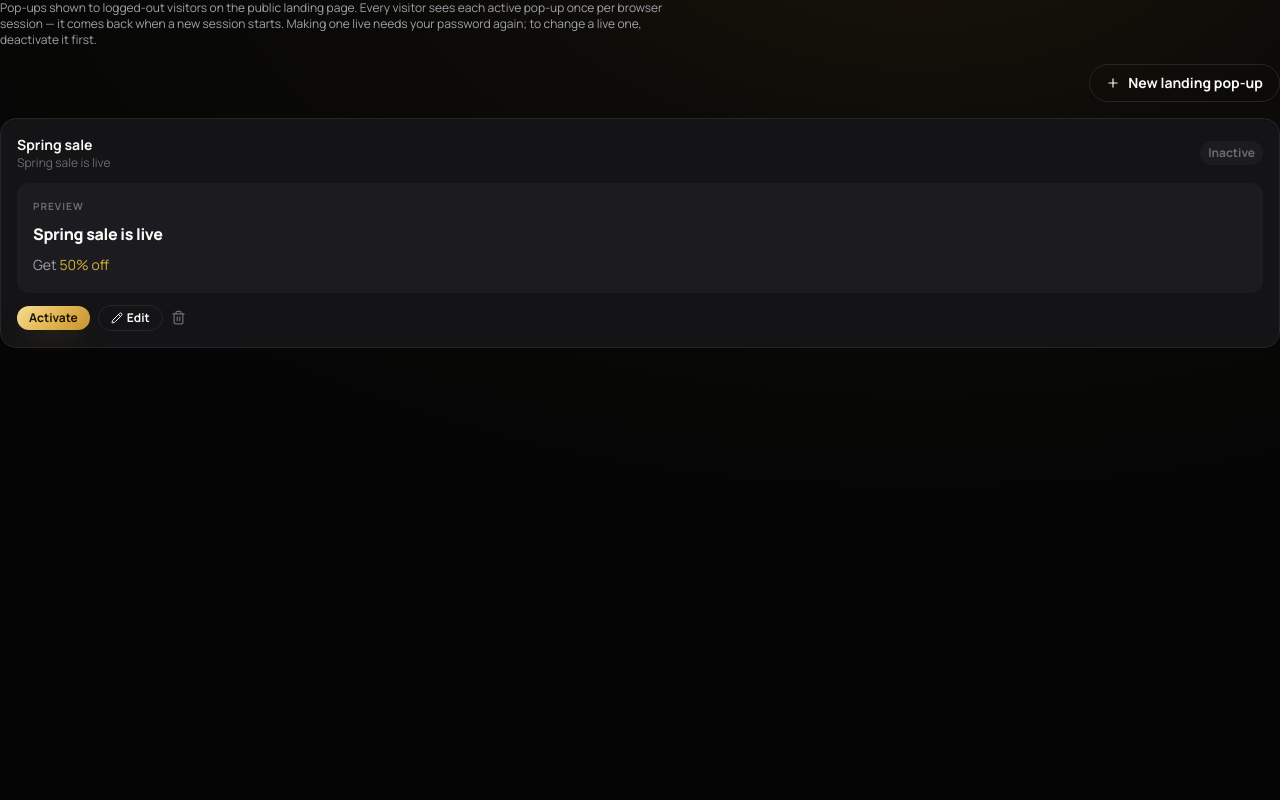
Test: LandingPopups (admin tab) › prompts for step-up when activating requires it
Step 1. Click the button with test id "admin-landing-popup-activate-btn-p1" → (53, 318), box left=17, top=306, right=90, bottom=330
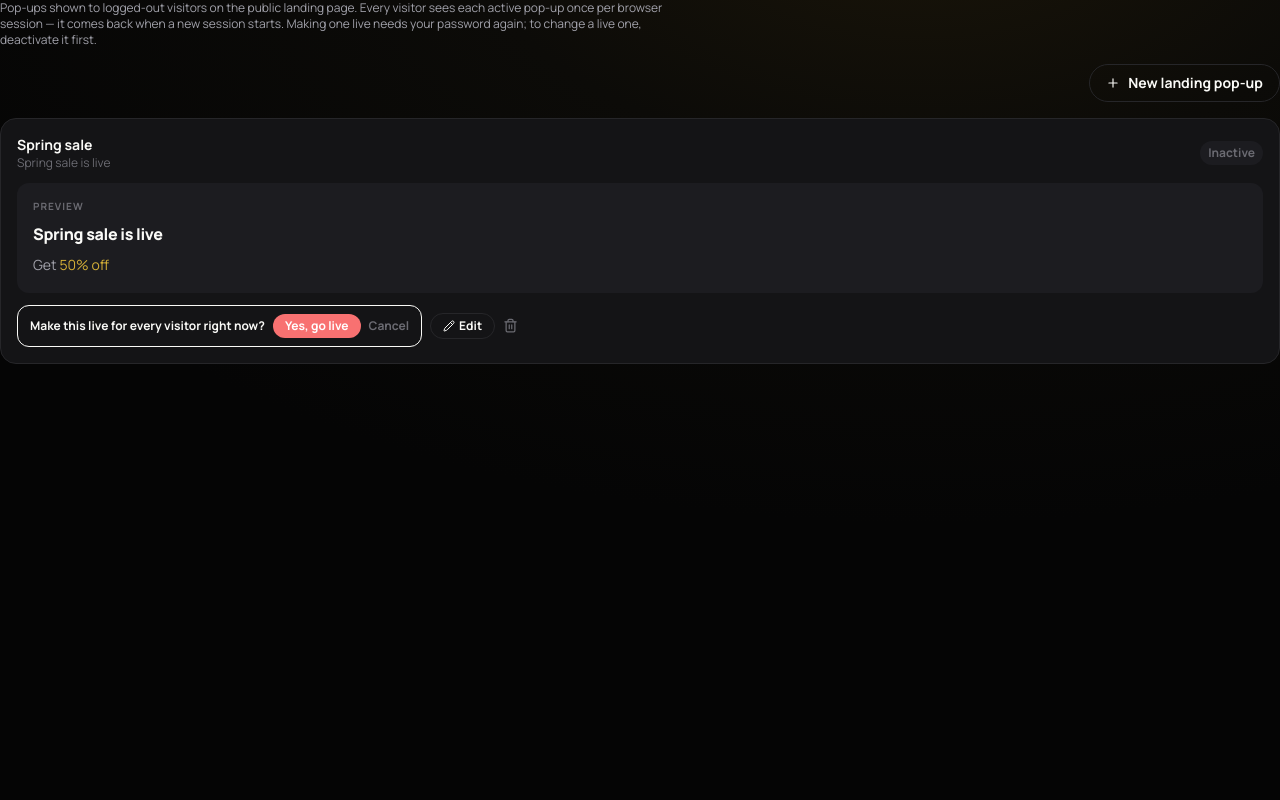
Step 2. Click the button with test id "admin-landing-popup-activate-confirm-btn-p1" → (317, 326), box left=273, top=314, right=361, bottom=338
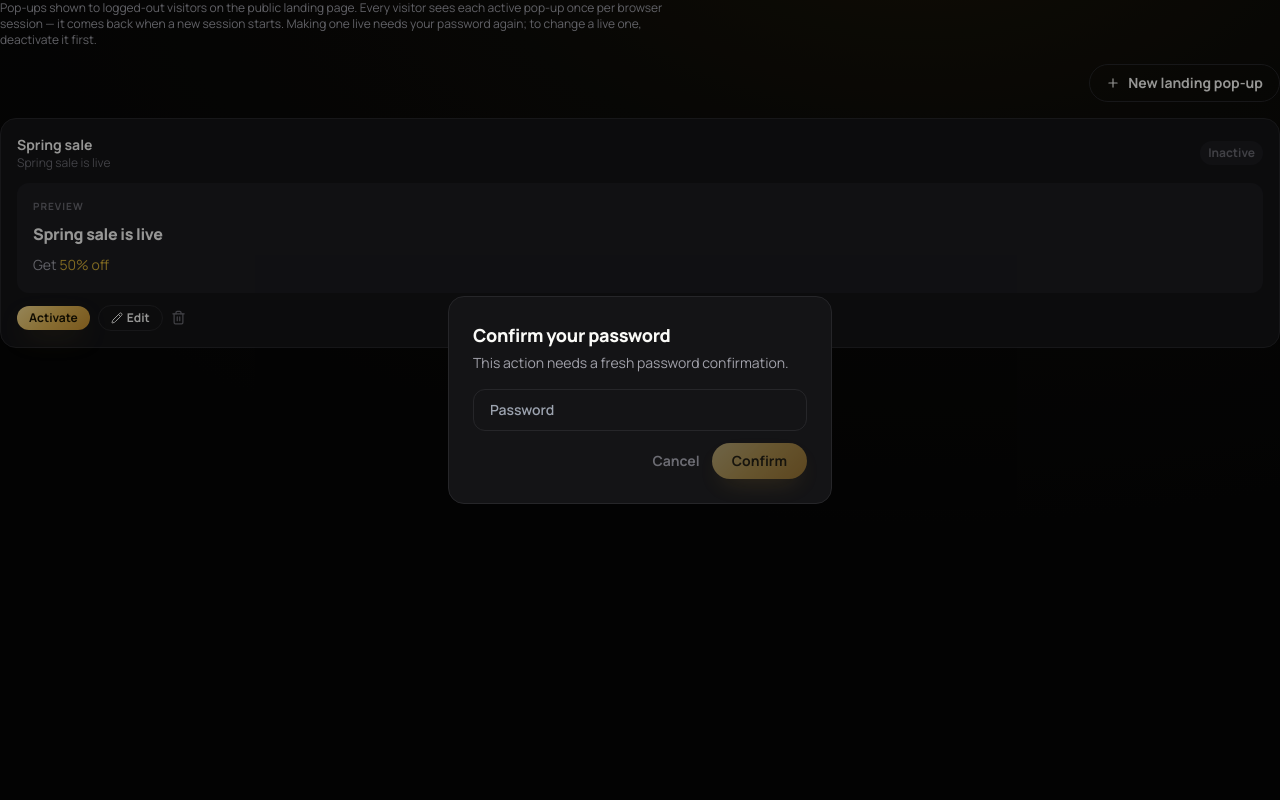
Now the element with test id "admin-stepup-modal" is shown
